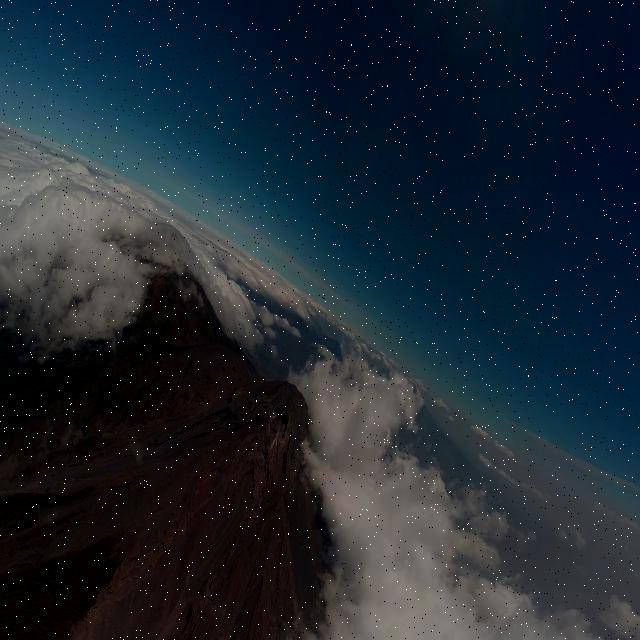Summit: (214, 358, 312, 525)
